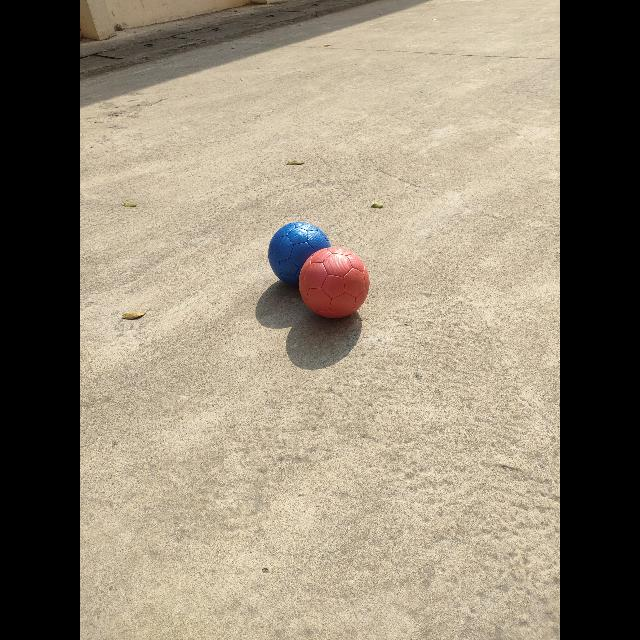B: (269, 221, 330, 286)
R: (299, 246, 370, 319)
